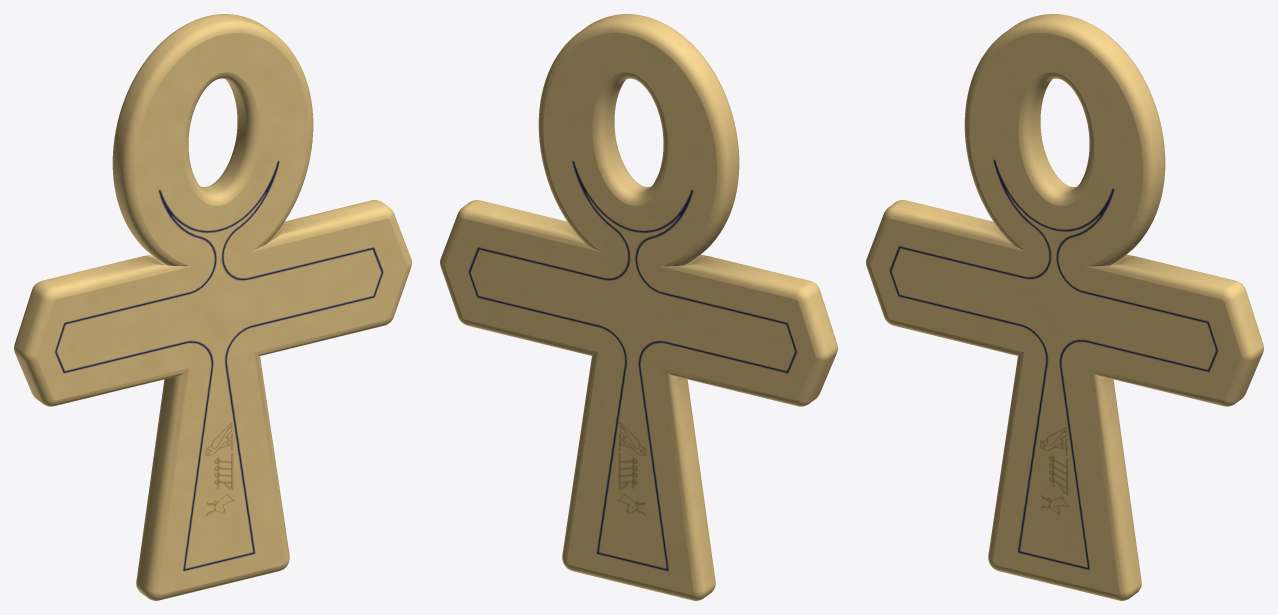
File: ankh.glb
3 views of the same model, side by side, from view 1: azimuth 30°, elevation 25°; view 2: azimuth 150°, elevation 25°; view 3: azimuth 330°, elevation 25° (orthographic).
Parts seen in each view (by area): view 1: ankh; view 2: ankh; view 3: ankh.
Boxes of the visible parts, x1,y1,x2,y2 form: ankh: [14, 14, 411, 600]; ankh: [440, 14, 837, 600]; ankh: [866, 14, 1263, 600].
Bounding box in the file's own units: 0.181 × 0.251 × 0.014.
1 material, 1 textured.
